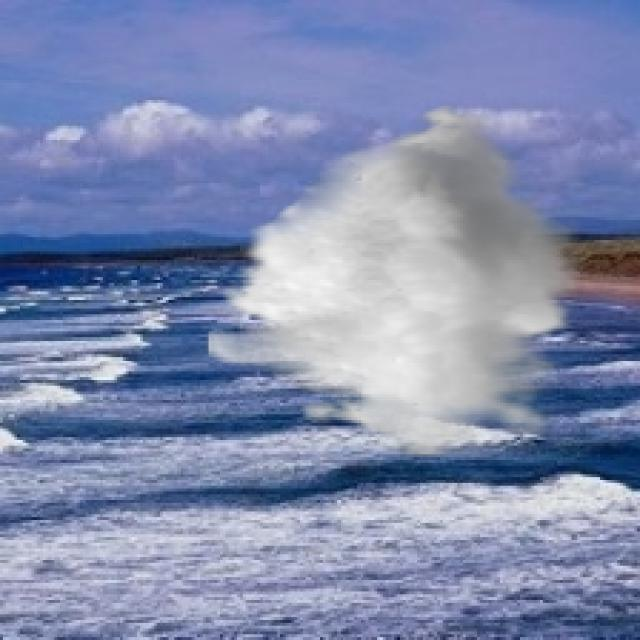Smoke: (205, 97, 586, 457)
